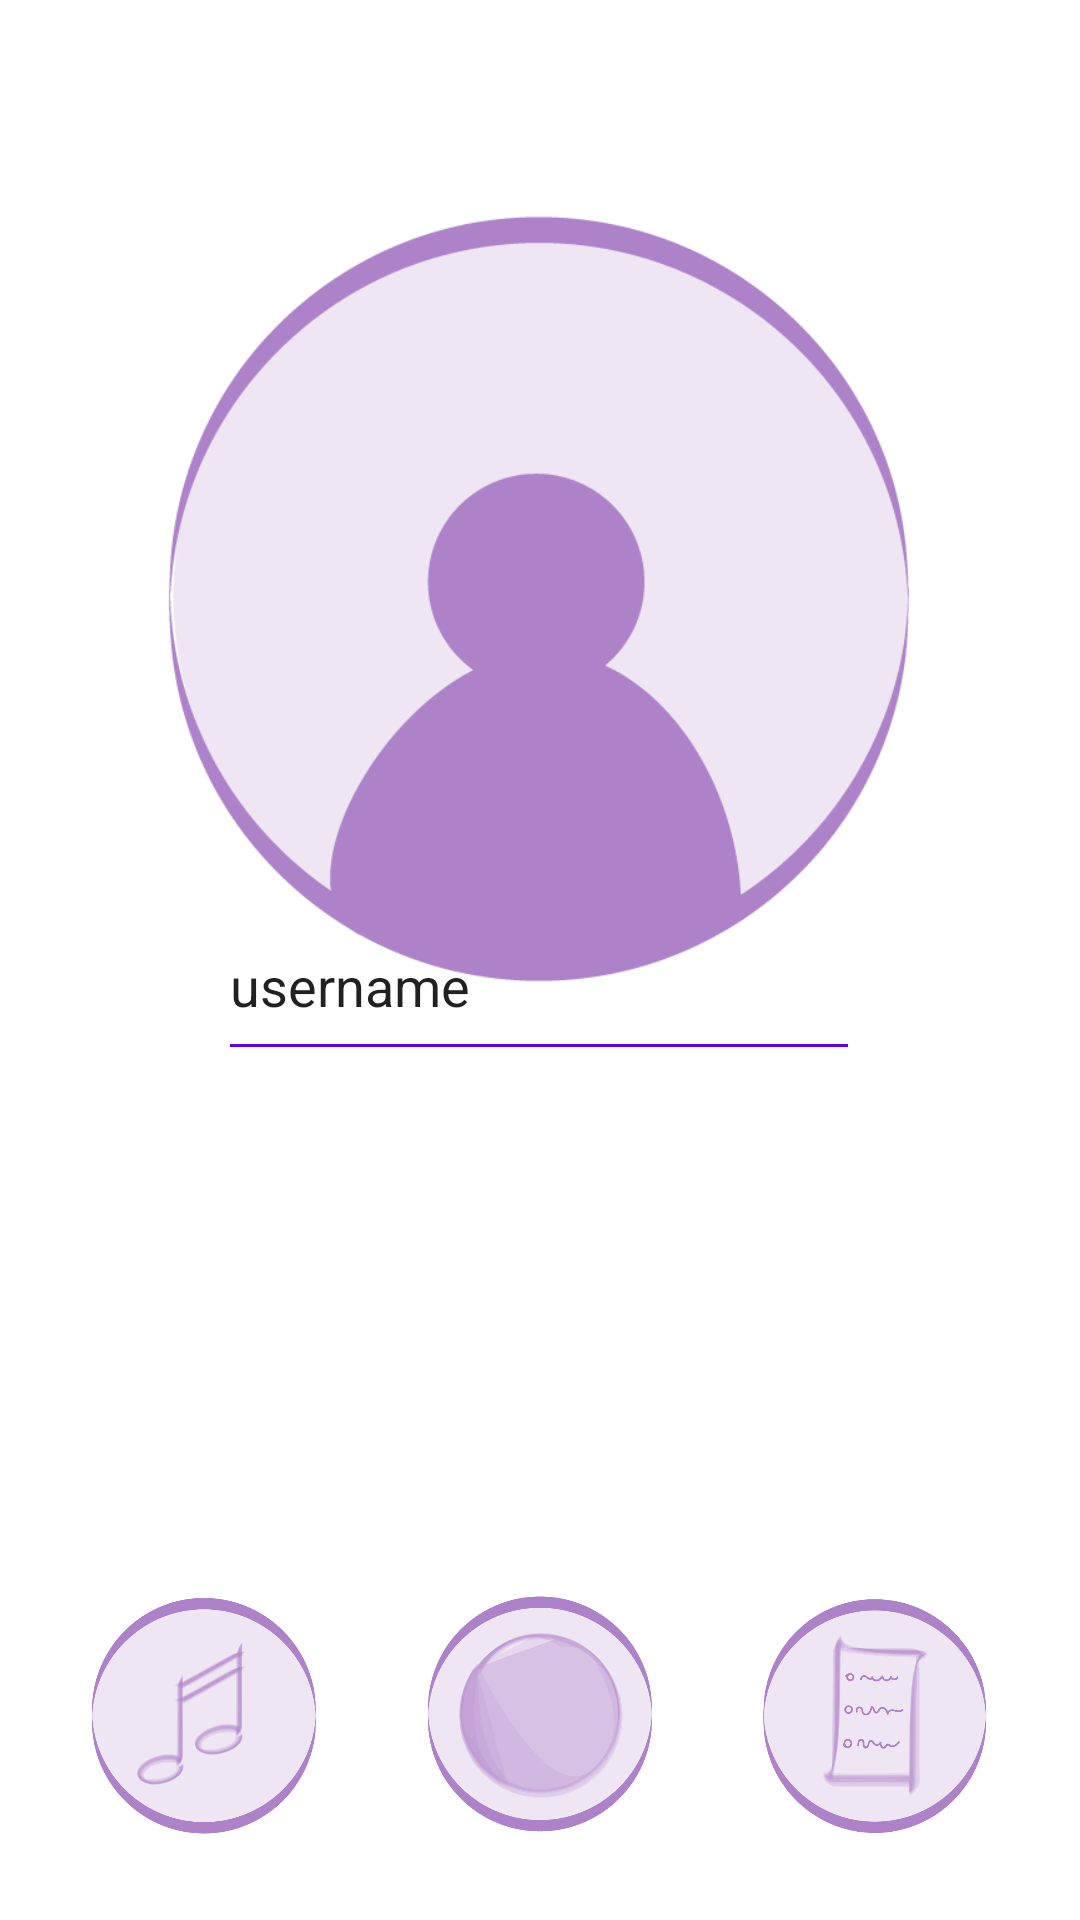

Icon bounding boxes for this 1080px×1920px phone screenshot, format (x1, y1, x2, y2):
exercises: (763, 1599, 987, 1833)
sounds: (92, 1598, 316, 1834)
